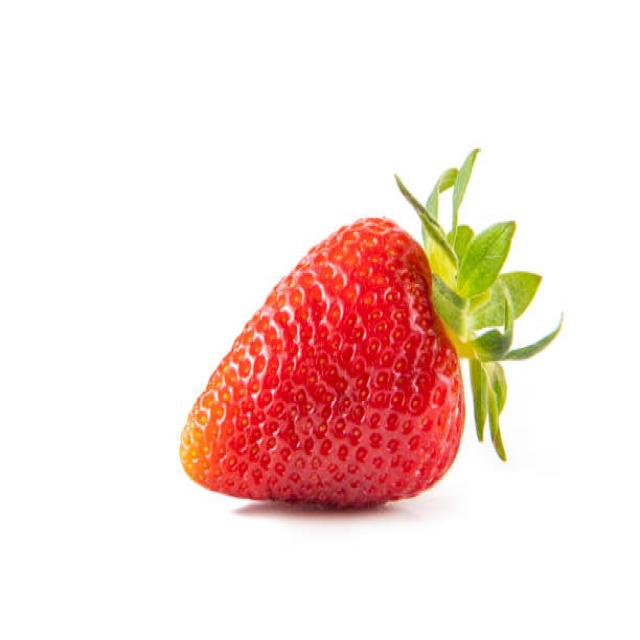Healthy Fruit: (179, 214, 465, 505)
